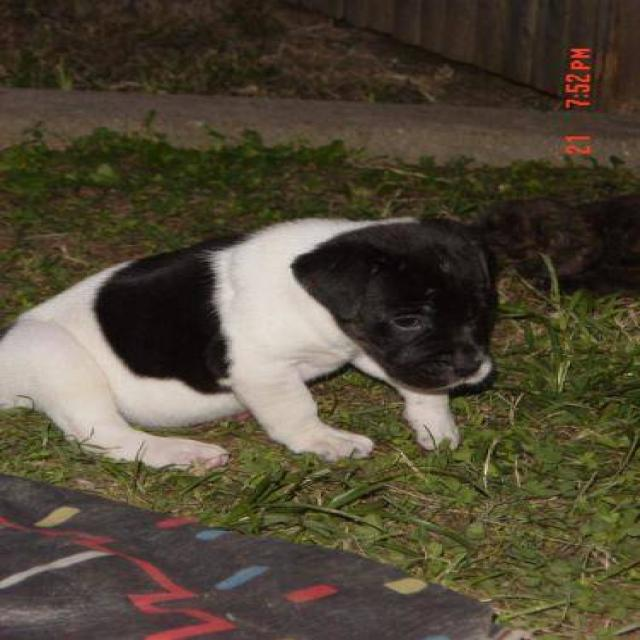dog: (0, 213, 500, 476)
